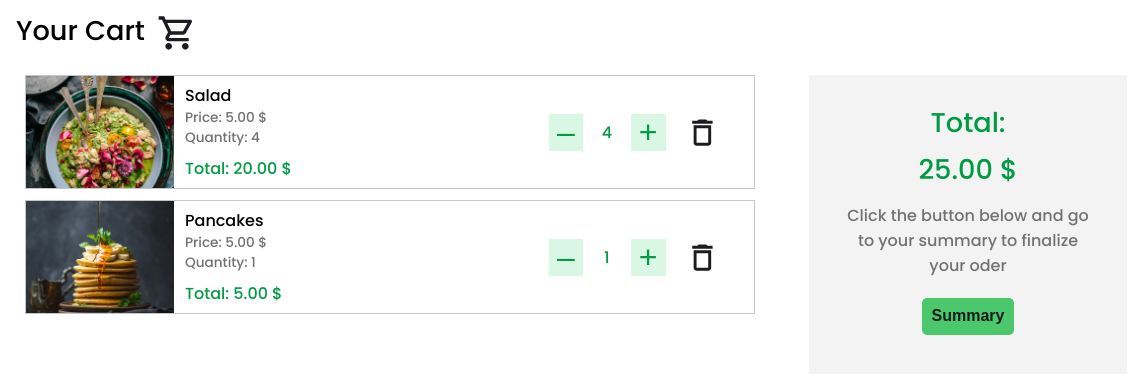
Test: change quantity › subtracted item with quantity of 1
This screenshot has width=1144, height=391.
Click the 2nd button "–".
click(566, 258)  # box [549,239,583,276]
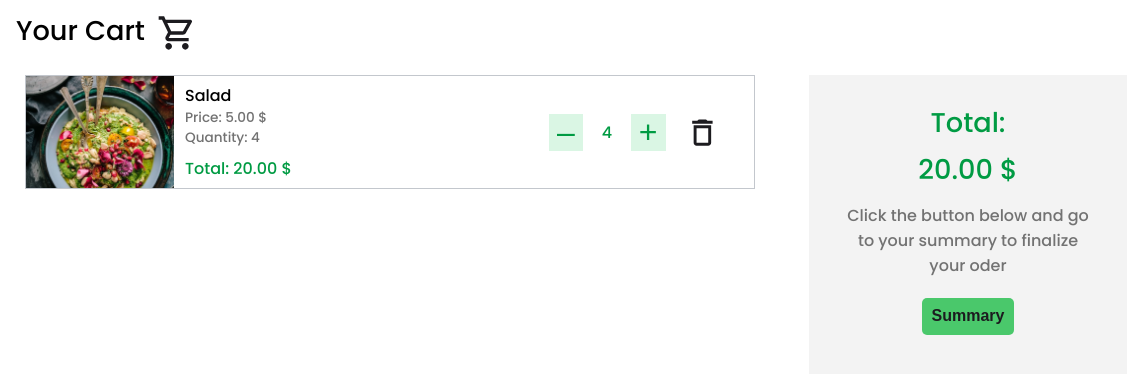
Expected: the number of elements with test id "cart-item" is 1, [25,75,755,189]
